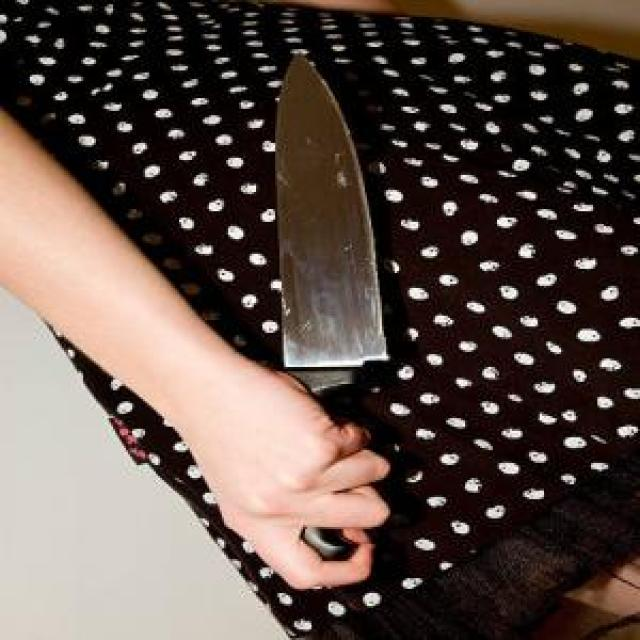knife: (262, 49, 398, 587)
